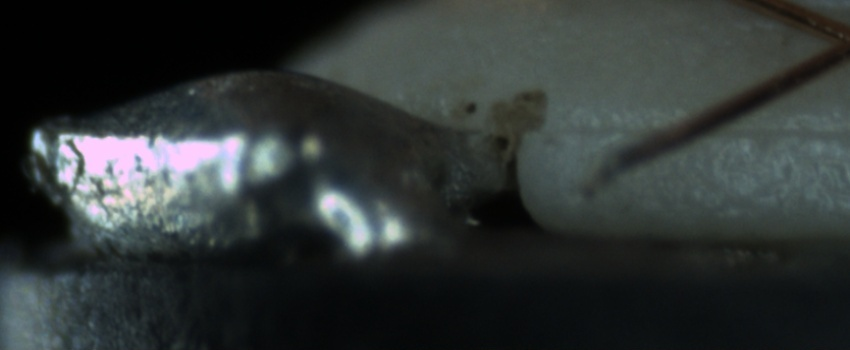CL: (799, 10, 850, 75)
DL: (562, 98, 850, 162)
